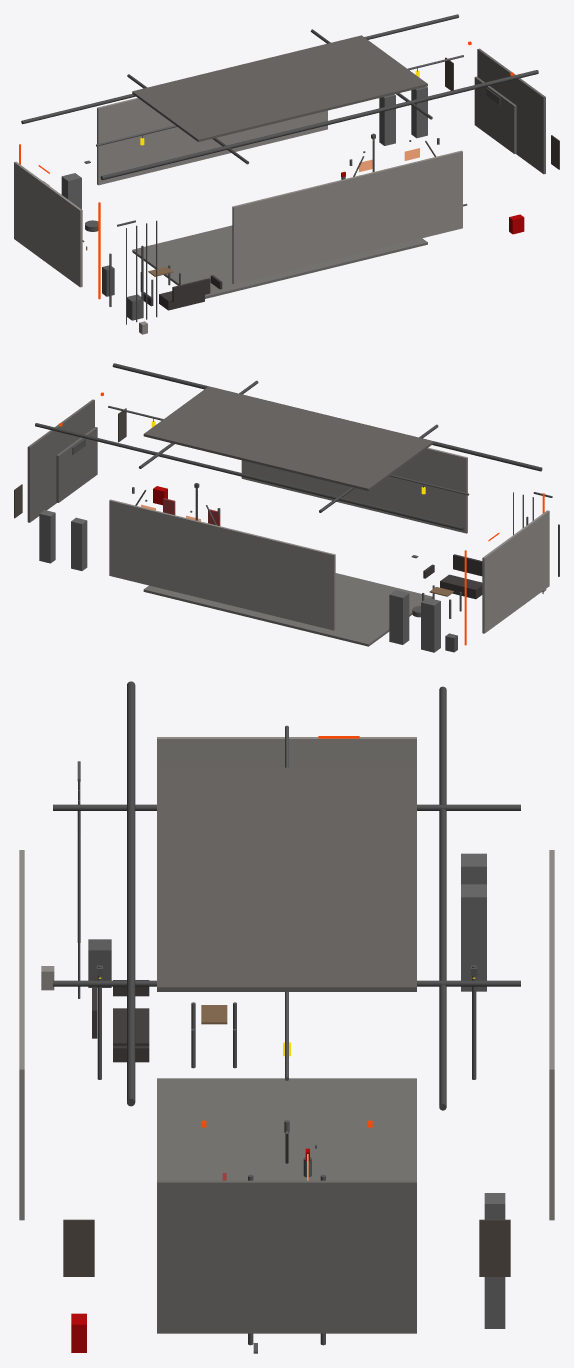
The picture shows the model from 3 angles, top to bottom: view 1: azimuth 30°, elevation 25°; view 2: azimuth 150°, elevation 25°; view 3: azimuth 270°, elevation 25°; orthographic projection. The views are drawn at different scales.
Visible parts, largest first — view 1: Wall_South, Ceiling, Wall_North, Floor, Wall_West, Wall_East, Pipe_Main1, BGWall_Texture, Pipe_Main2, IronShelf2, IronShelf1, Sofa_Back (+2 smaller); view 2: Wall_North, Ceiling, Wall_South, Floor, Wall_West, Wall_East, BGWall_Texture, Pipe_Main2, Pipe_Main1, IronRack2_Frame, IronRack1_Frame, IronShelf1 (+4 smaller); view 3: Ceiling, Wall_East, Floor, Wall_West, Pipe_Main1, Pipe_Main2, IronRack2_Frame, Wall_North, Wall_South, AcousticD_E1, AcousticD_E2, Pipe_Cross1 (+5 smaller).
Boxes of the visible parts, <box> form: Wall_South: <box>232,150,462,284</box>; Ceiling: <box>132,35,427,141</box>; Wall_North: <box>97,98,327,185</box>; Floor: <box>132,225,427,298</box>; Wall_West: <box>14,161,82,287</box>; Wall_East: <box>477,48,545,174</box>; Pipe_Main1: <box>100,70,538,180</box>; BGWall_Texture: <box>474,76,516,153</box>; Pipe_Main2: <box>21,14,458,124</box>; IronShelf2: <box>379,94,395,145</box>; IronShelf1: <box>411,86,427,138</box>; Sofa_Back: <box>172,278,210,302</box>; Wall_North: <box>109,499,335,630</box>; Ceiling: <box>143,386,433,491</box>; Wall_South: <box>241,447,467,533</box>; Floor: <box>143,573,432,646</box>; Wall_West: <box>482,510,549,633</box>; Wall_East: <box>27,399,94,522</box>; BGWall_Texture: <box>56,427,97,502</box>; Pipe_Main2: <box>35,423,464,530</box>; Pipe_Main1: <box>112,363,542,471</box>; IronRack2_Frame: <box>389,590,409,644</box>; IronRack1_Frame: <box>421,597,440,652</box>; IronShelf1: <box>39,510,55,563</box>; Ceiling: <box>157,767,416,991</box>; Wall_East: <box>157,1180,416,1333</box>; Floor: <box>157,1078,416,1180</box>; Wall_West: <box>157,737,416,767</box>; Pipe_Main1: <box>127,681,135,1106</box>; Pipe_Main2: <box>439,686,446,1110</box>; IronRack2_Frame: <box>461,884,486,991</box>; Wall_North: <box>549,850,554,1220</box>; Wall_South: <box>19,850,24,1220</box>; AcousticD_E1: <box>63,1219,94,1276</box>; AcousticD_E2: <box>479,1219,510,1276</box>; Pipe_Cross1: <box>53,804,520,810</box>.
Size of the model in its own units: 10.15 by 3.35 by 5.15.
